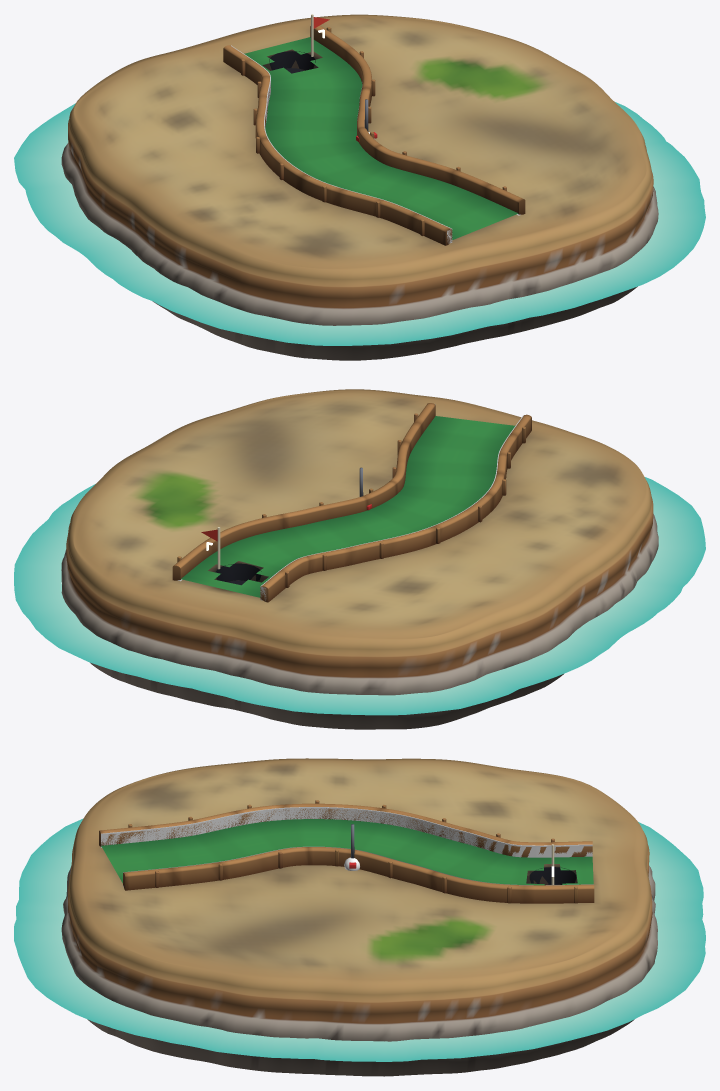
File: course-07.glb
The picture shows the model from 3 angles, top to bottom: view 1: azimuth 30°, elevation 25°; view 2: azimuth 150°, elevation 25°; view 3: azimuth 270°, elevation 25°; orthographic projection.
Parts seen in each view (by area): view 1: scenery-matte, water-shore, surface-grass, rail-trim-left, rail-trim-right; view 2: scenery-matte, water-shore, surface-grass, rail-trim-left, rail-trim-right; view 3: scenery-matte, water-shore, surface-grass, rail-trim-right, rail-left, rail-trim-left.
Boxes of the visible parts, x1,y1,x2,y2 form: scenery-matte: [61, 14, 658, 360]; water-shore: [14, 102, 705, 345]; surface-grass: [244, 37, 518, 239]; rail-trim-left: [223, 45, 452, 245]; rail-trim-right: [310, 25, 525, 214]; scenery-matte: [61, 389, 658, 729]; water-shore: [14, 477, 705, 715]; surface-grass: [181, 416, 515, 597]; rail-trim-left: [260, 414, 531, 602]; rail-trim-right: [172, 403, 435, 580]; scenery-matte: [61, 758, 657, 1076]; water-shore: [14, 818, 705, 1061]; surface-grass: [101, 819, 593, 885]; rail-trim-right: [123, 847, 594, 903]; rail-left: [100, 807, 592, 857]; rail-trim-left: [99, 800, 592, 857].
Bounding box in the file's own units: 12.17 × 3.26 × 12.8.
